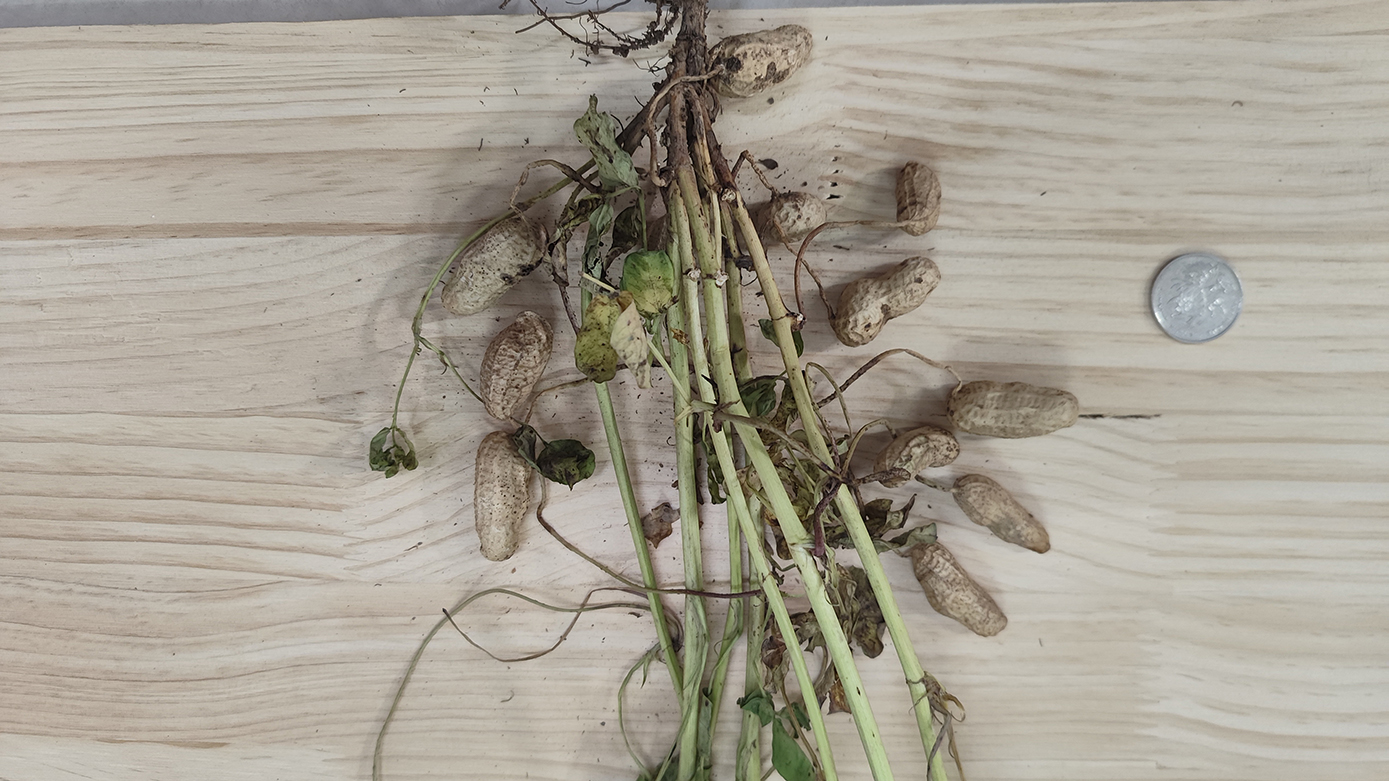h: (438, 217, 540, 315), (834, 257, 942, 349), (908, 544, 1007, 638), (705, 25, 814, 99), (480, 312, 552, 422), (955, 475, 1052, 554), (949, 379, 1080, 434), (475, 433, 530, 560), (873, 425, 961, 487), (896, 160, 941, 235), (764, 192, 825, 238)
